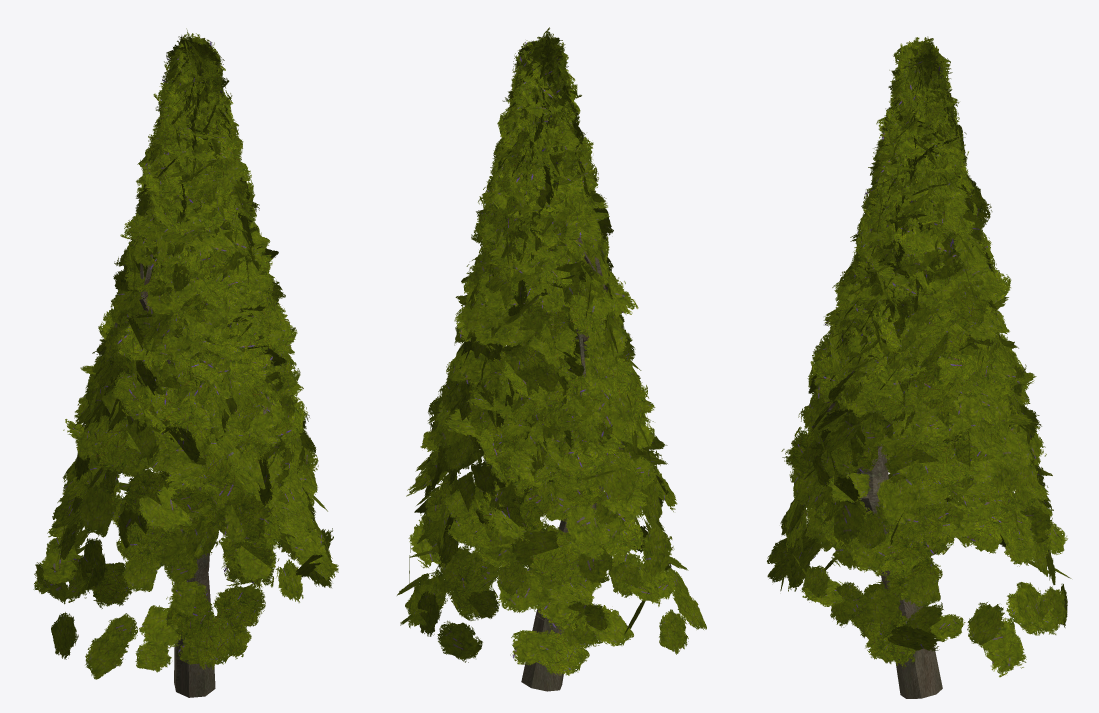
The model's file is tree_conifer_02.fbx.
3 views of the same model, side by side, from view 1: azimuth 30°, elevation 25°; view 2: azimuth 150°, elevation 25°; view 3: azimuth 270°, elevation 25° (orthographic).
Parts seen in each view (by area): view 1: tree_conifer_02_LOD0; view 2: tree_conifer_02_LOD0; view 3: tree_conifer_02_LOD0.
Boxes of the visible parts, left/top/right/bottom form: tree_conifer_02_LOD0: left=33, top=28, right=338, bottom=697; tree_conifer_02_LOD0: left=397, top=27, right=706, bottom=691; tree_conifer_02_LOD0: left=767, top=36, right=1071, bottom=698.
Size of what is drawn, in the model's own units: 4.9 by 11.06 by 5.
